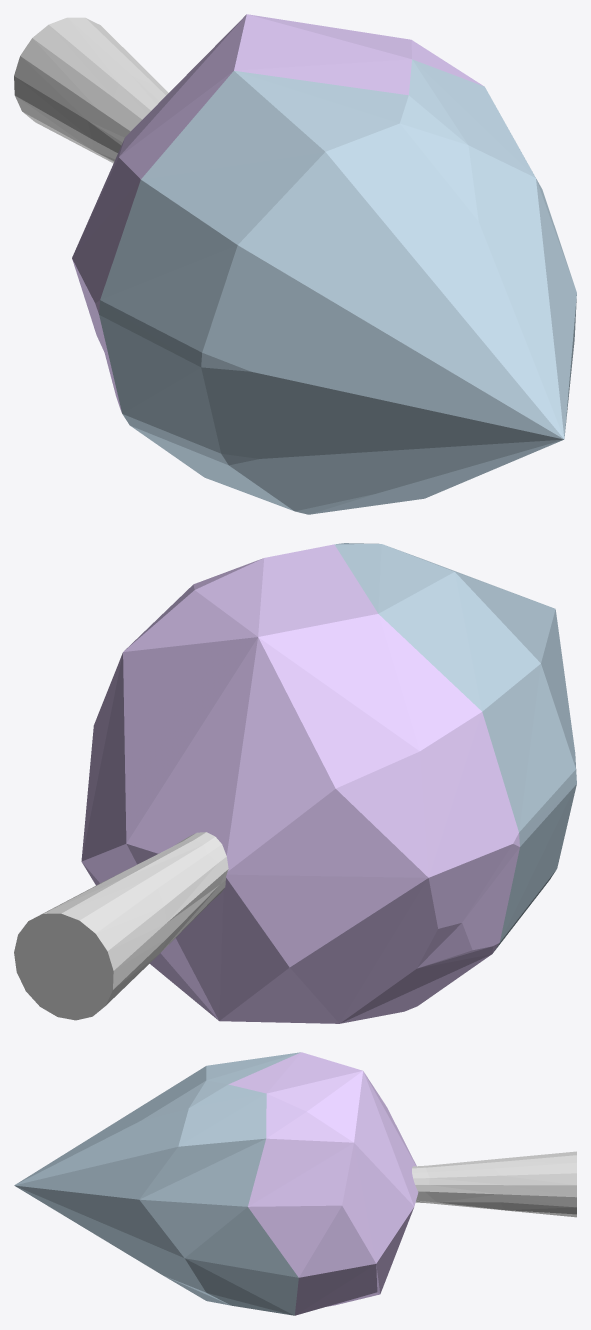
File: tree02.fbx
3 renders of one model, top to bottom at view 1: azimuth 30°, elevation 25°; view 2: azimuth 150°, elevation 25°; view 3: azimuth 270°, elevation 25°, orthographic. The views are drawn at different scales.
Parts seen in each view (by area): view 1: tree_up.001; view 2: tree_up.001; view 3: tree_up.001.
Part boxes in pixels (box(x1,y1,x2,y2)): tree_up.001: box(14, 14, 576, 514); tree_up.001: box(14, 543, 576, 1023); tree_up.001: box(14, 1052, 576, 1315).
Size of the model in its own units: 1.06 by 1.02 by 2.22.
